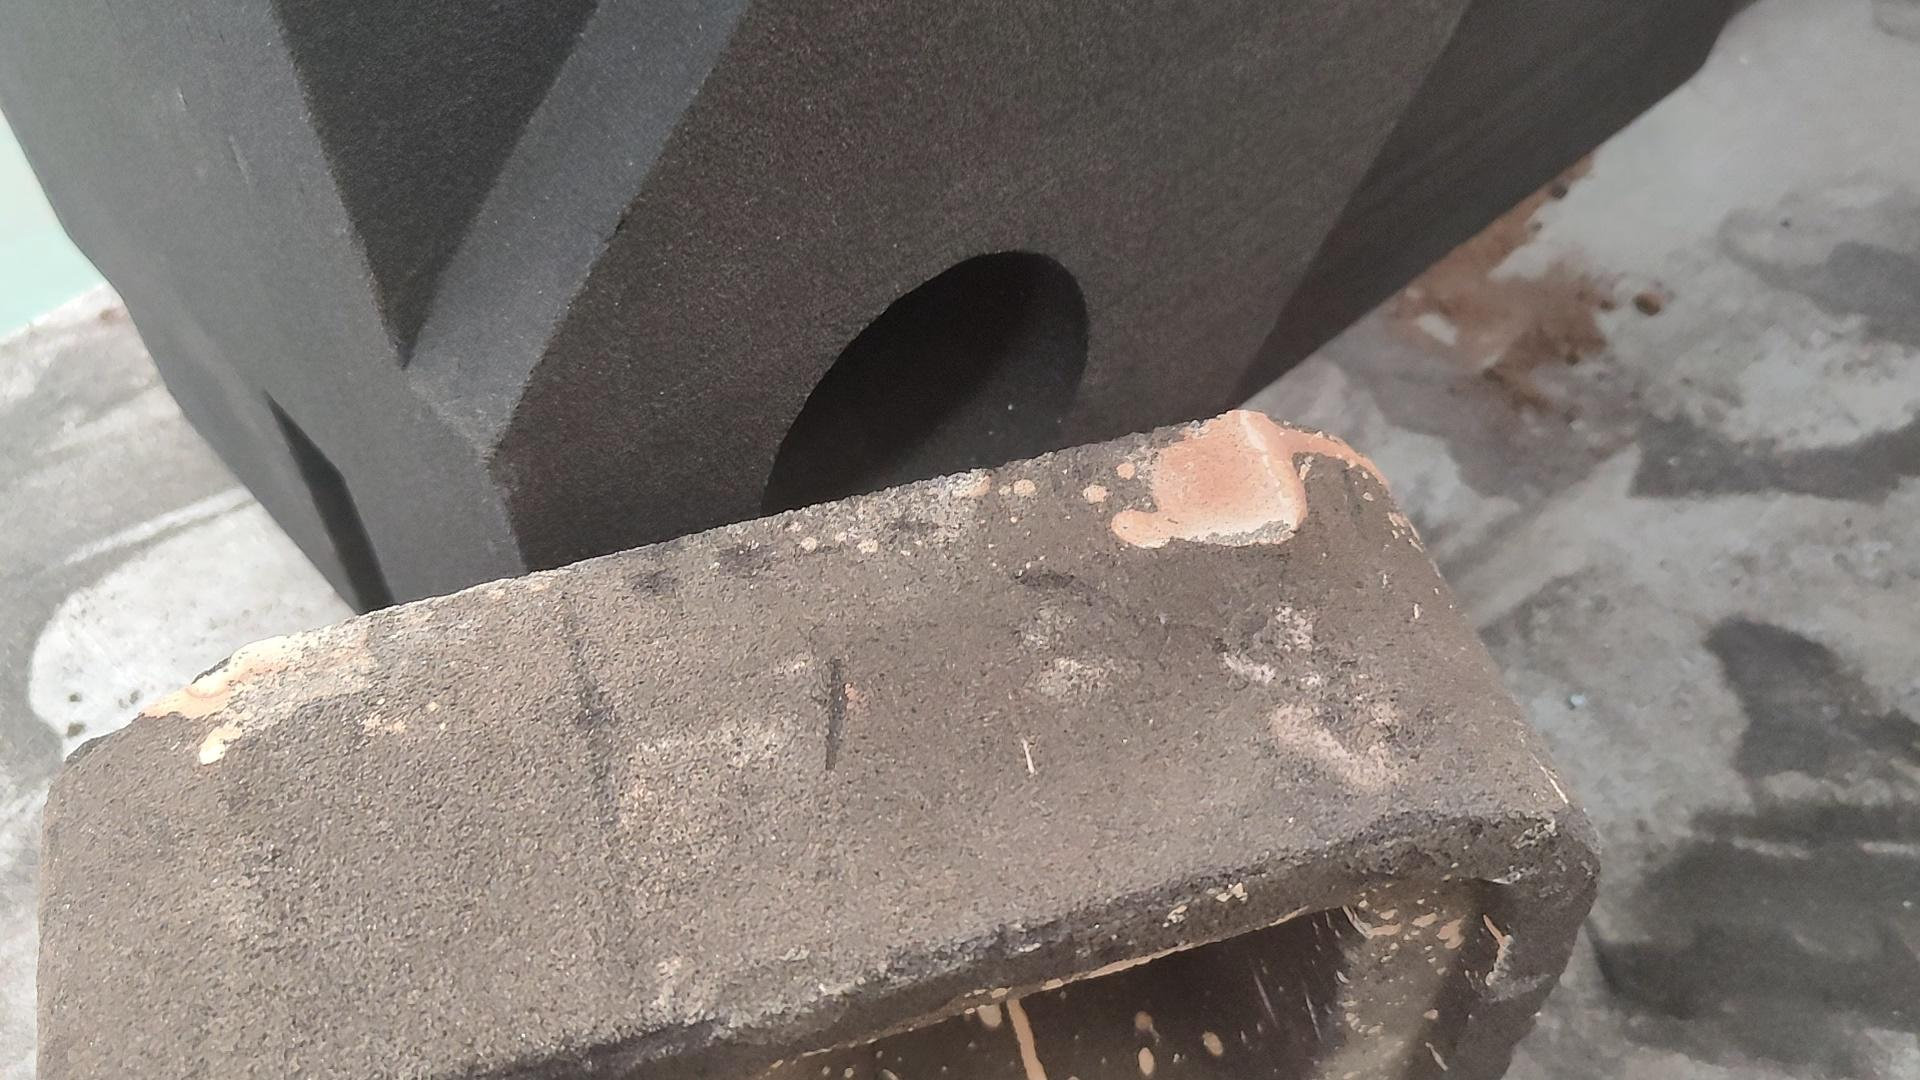pouring hole: (760, 251, 1091, 534)
